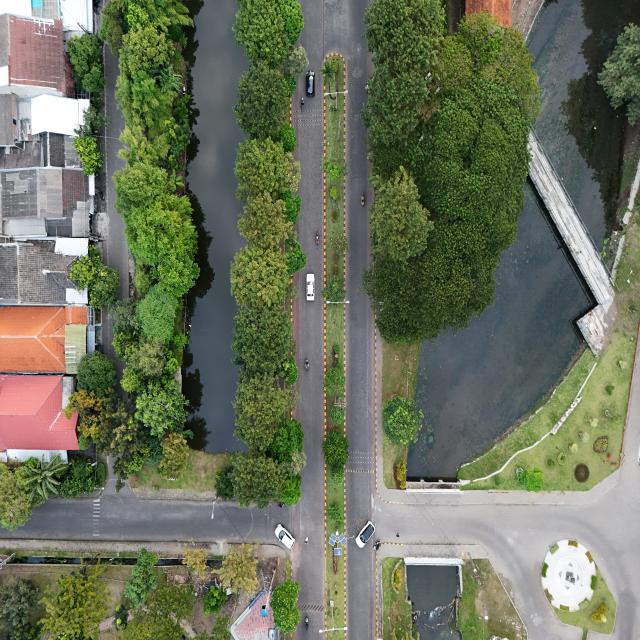Tree: (368, 171, 432, 262), (236, 65, 291, 137), (235, 302, 290, 370), (230, 244, 290, 305), (236, 376, 286, 448), (237, 190, 293, 244), (232, 138, 288, 192), (382, 396, 423, 448), (273, 580, 301, 632), (74, 136, 104, 176), (322, 429, 349, 470), (321, 272, 348, 302), (324, 366, 346, 400), (518, 466, 544, 493), (289, 45, 309, 75), (121, 364, 140, 394), (324, 156, 345, 183), (278, 121, 297, 147), (327, 504, 345, 526), (320, 61, 337, 84), (327, 182, 342, 204)
